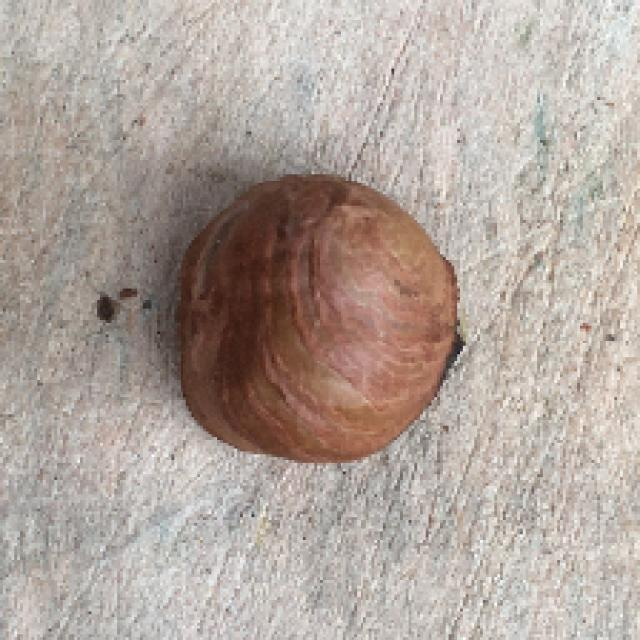hazelnut: (172, 172, 472, 461)
